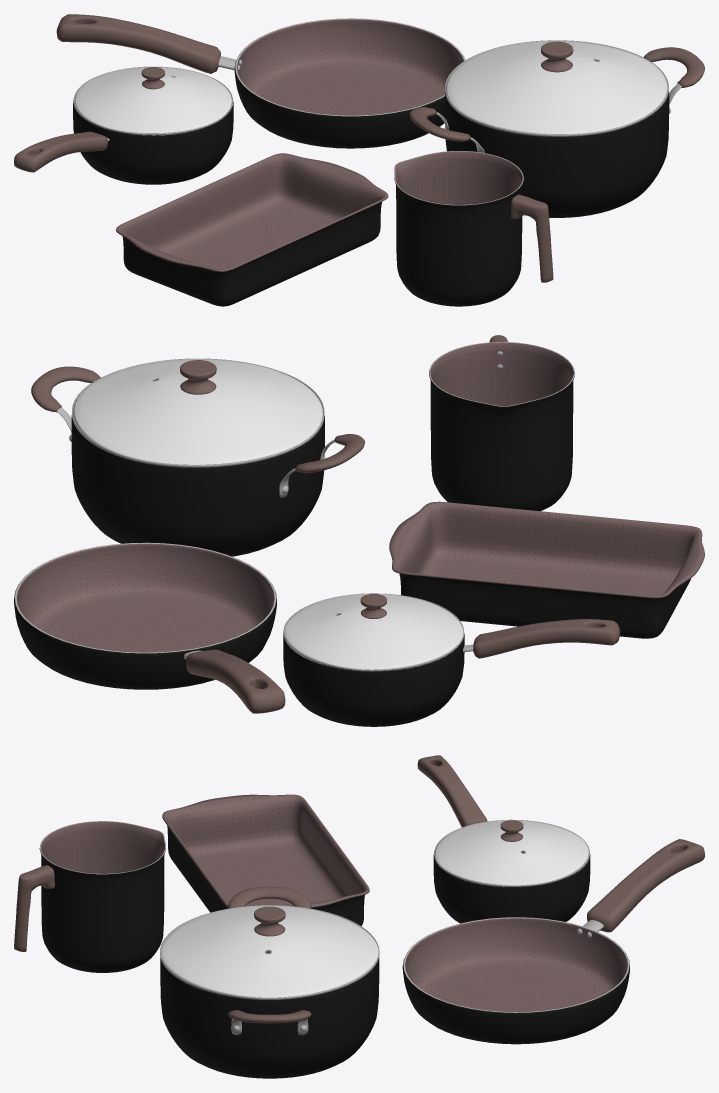
The model's file is jogo de panelas.fbx.
3 views of the same model, one above another, from view 1: azimuth 30°, elevation 25°; view 2: azimuth 150°, elevation 25°; view 3: azimuth 270°, elevation 25° (orthographic). The views are drawn at different scales.
Visible parts, largest first — view 1: Plano, Círculo, Círculo.007, Círculo.002, Círculo.001, Círculo.006, Círculo.005, Cubo, Cubo.001, Cubo.002, Círculo.003, Toróide (+3 smaller); view 2: Plano, Círculo, Círculo.007, Círculo.001, Círculo.002, Círculo.006, Círculo.005, Cubo.001, Cubo, Círculo.003, Toróide, Toróide.001 (+2 smaller); view 3: Círculo, Plano, Círculo.007, Círculo.001, Círculo.002, Círculo.006, Círculo.005, Cubo, Cubo.001, Cubo.002, Círculo.003, Toróide.001 (+3 smaller).
Boxes of the visible parts, x1,y1,x2,y2 form: Plano: [116, 153, 388, 306]; Círculo: [234, 18, 465, 148]; Círculo.007: [394, 151, 523, 306]; Círculo.002: [446, 41, 667, 134]; Círculo.001: [445, 60, 669, 217]; Círculo.006: [74, 67, 232, 133]; Círculo.005: [73, 100, 233, 184]; Cubo: [56, 14, 220, 73]; Cubo.001: [14, 131, 107, 172]; Cubo.002: [511, 194, 553, 282]; Círculo.003: [445, 40, 668, 136]; Toróide: [643, 47, 704, 87]; Plano: [389, 501, 704, 638]; Círculo: [14, 542, 276, 689]; Círculo.007: [429, 342, 574, 511]; Círculo.001: [71, 380, 324, 556]; Círculo.002: [73, 359, 323, 464]; Círculo.006: [284, 594, 463, 669]; Círculo.005: [283, 614, 464, 726]; Cubo.001: [473, 619, 620, 658]; Cubo: [186, 649, 285, 713]; Círculo.003: [72, 358, 324, 467]; Toróide: [31, 366, 100, 412]; Toróide.001: [295, 434, 364, 473]; Círculo: [402, 917, 629, 1044]; Plano: [162, 794, 369, 925]; Círculo.007: [39, 821, 165, 972]; Círculo.001: [160, 951, 379, 1078]; Círculo.002: [161, 905, 378, 997]; Círculo.006: [435, 820, 588, 885]; Círculo.005: [433, 851, 590, 923]; Cubo: [587, 839, 704, 932]; Cubo.001: [417, 755, 487, 827]; Cubo.002: [14, 865, 54, 951]; Círculo.003: [160, 905, 379, 999]; Toróide.001: [228, 886, 311, 908].
Size of the model in its own units: 73 by 15.79 by 75.15.
Materials: 5 (1 with a texture image).
